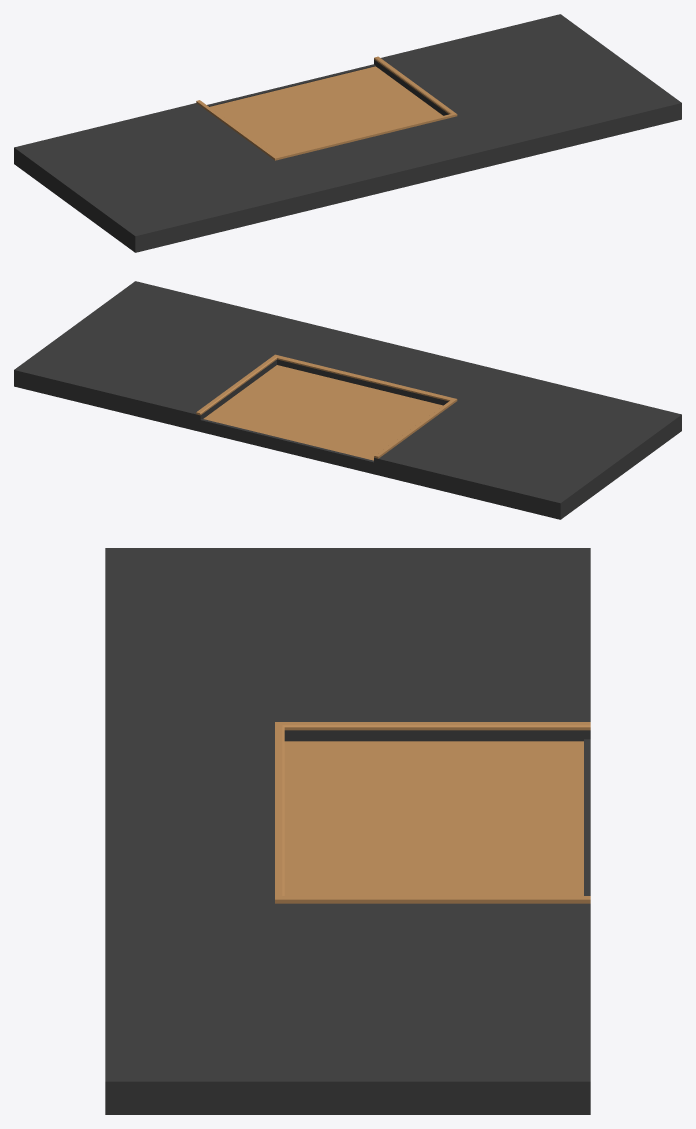
The model's file is MOD_Board_02.fbx.
3 views of the same model, one above another, from view 1: azimuth 30°, elevation 25°; view 2: azimuth 150°, elevation 25°; view 3: azimuth 270°, elevation 25° (orthographic). The views are drawn at different scales.
Visible parts, largest first — view 1: Main; view 2: Main; view 3: Main.
Boxes of the visible parts, left/top/right/bottom form: Main: left=14, top=14, right=681, bottom=252; Main: left=14, top=281, right=681, bottom=519; Main: left=105, top=548, right=590, bottom=1114.
Bounding box in the file's own units: 120 × 3.91 × 46.05.
Materials: 1 (1 with a texture image).
